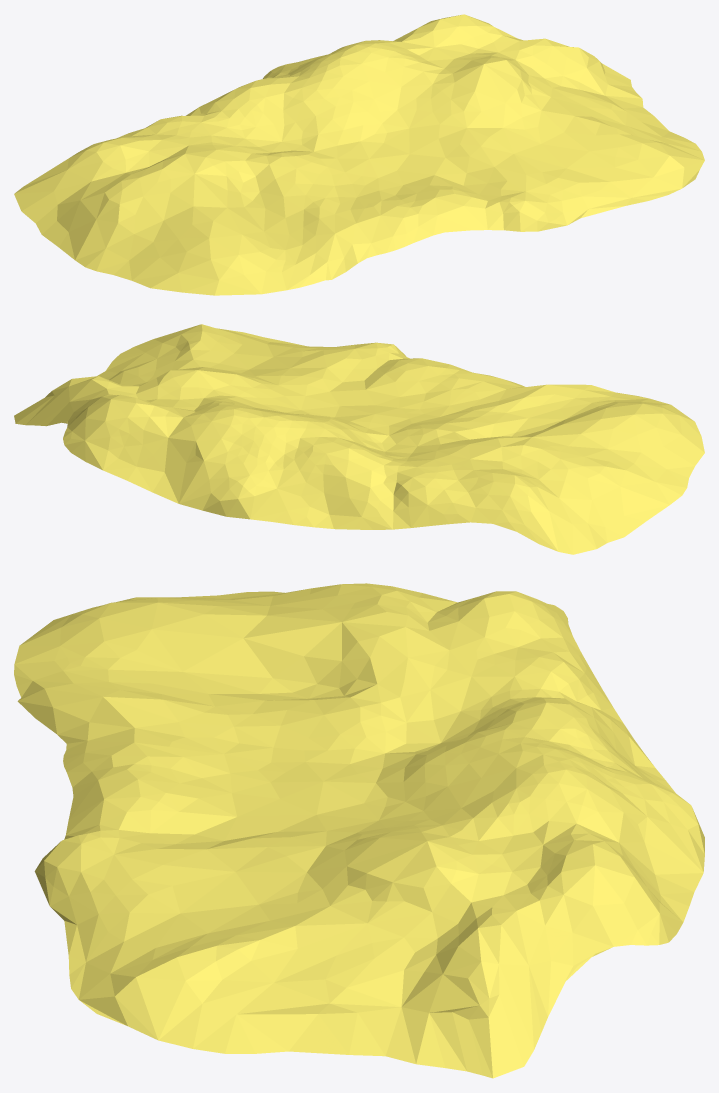
Rendered from Hill_018.glb.
3 views of the same model, one above another, from view 1: azimuth 30°, elevation 25°; view 2: azimuth 150°, elevation 25°; view 3: azimuth 270°, elevation 25° (orthographic). The views are drawn at different scales.
Parts seen in each view (by area): view 1: Hill_018; view 2: Hill_018; view 3: Hill_018.
Boxes of the visible parts, x1,y1,x2,y2 form: Hill_018: (14,14,704,295); Hill_018: (14,324,704,554); Hill_018: (14,583,704,1078).
Size of the model in its own units: 18.27 by 2.25 by 11.53.
1 material, 1 textured.
